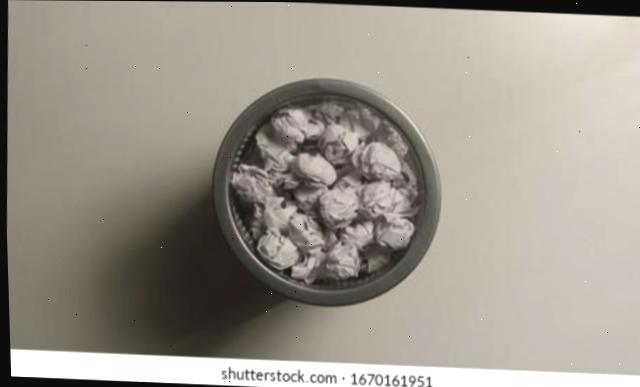Paper: (228, 99, 415, 284)
top_view_waste: (224, 91, 420, 282)
